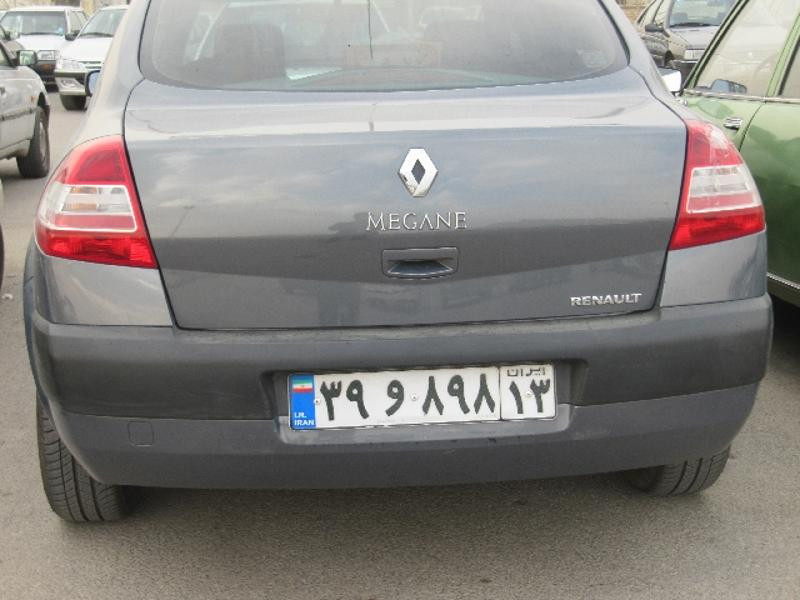Plate: (277, 351, 583, 438)
